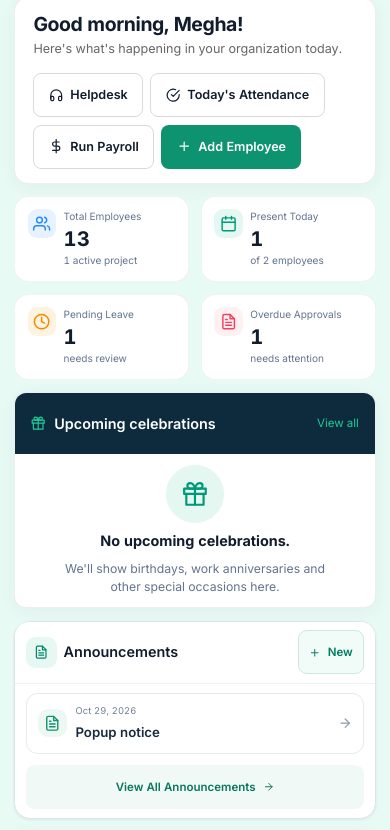
Scenario: Admin dashboard reference layout and overlays › renders the announcements popup with the reference header, badges and New actions
Click the button "Oct 29, 2026 Popup notice".
click(106, 711)  # box [26, 692, 364, 754]
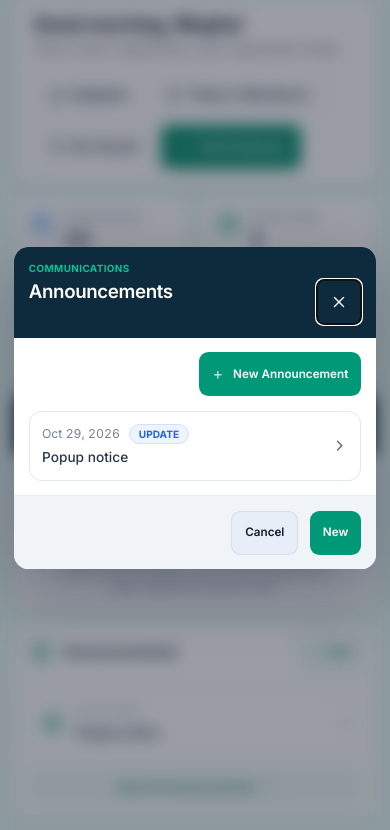
Expected: the text "Communications" is shown, [29, 262, 130, 274]
Expected: the text "Update" is shown, [129, 424, 189, 444]
Expected: the text "Popup notice" is shown, [42, 449, 128, 465]
Click the button "Cancel".
click(265, 533)  # box [231, 511, 298, 555]
(page scrolled)
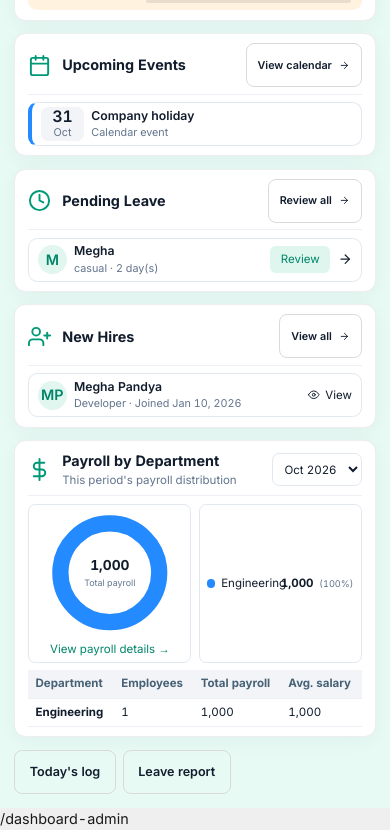
Expected: the text with test id "route" reads "/dashboard-admin", [0, 810, 129, 827]
Expected: the dialog is gone
